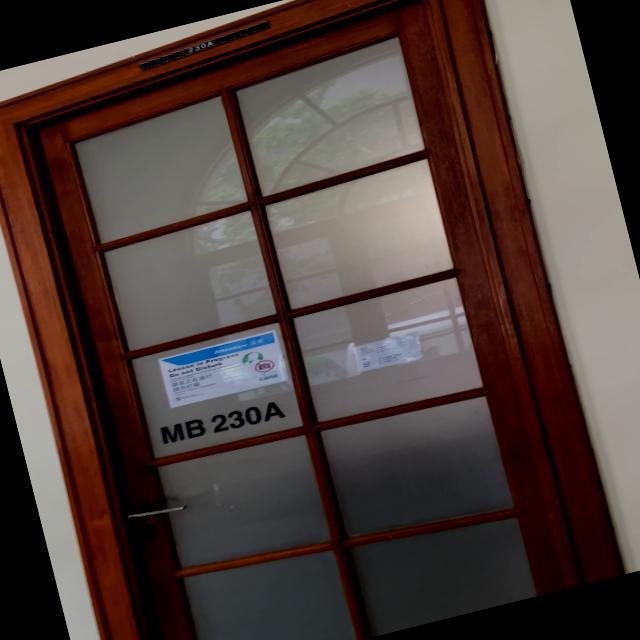room230A: (134, 17, 274, 72)
room230AWindow: (152, 396, 290, 448)
